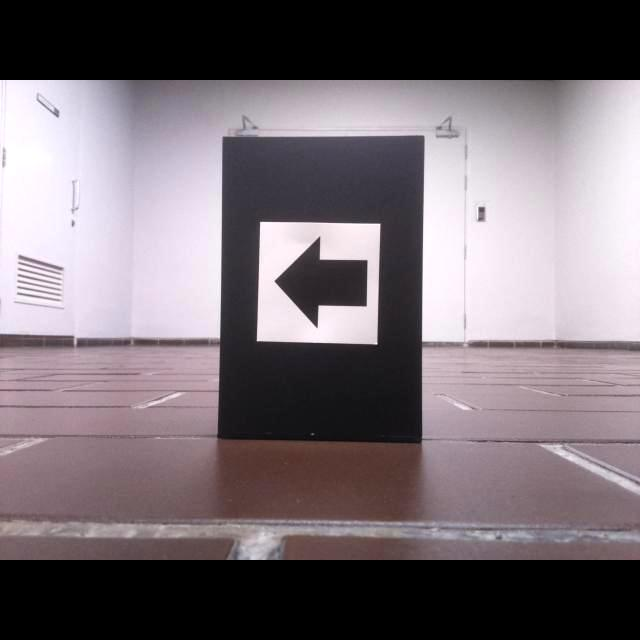LEFT: (272, 234, 368, 330)
